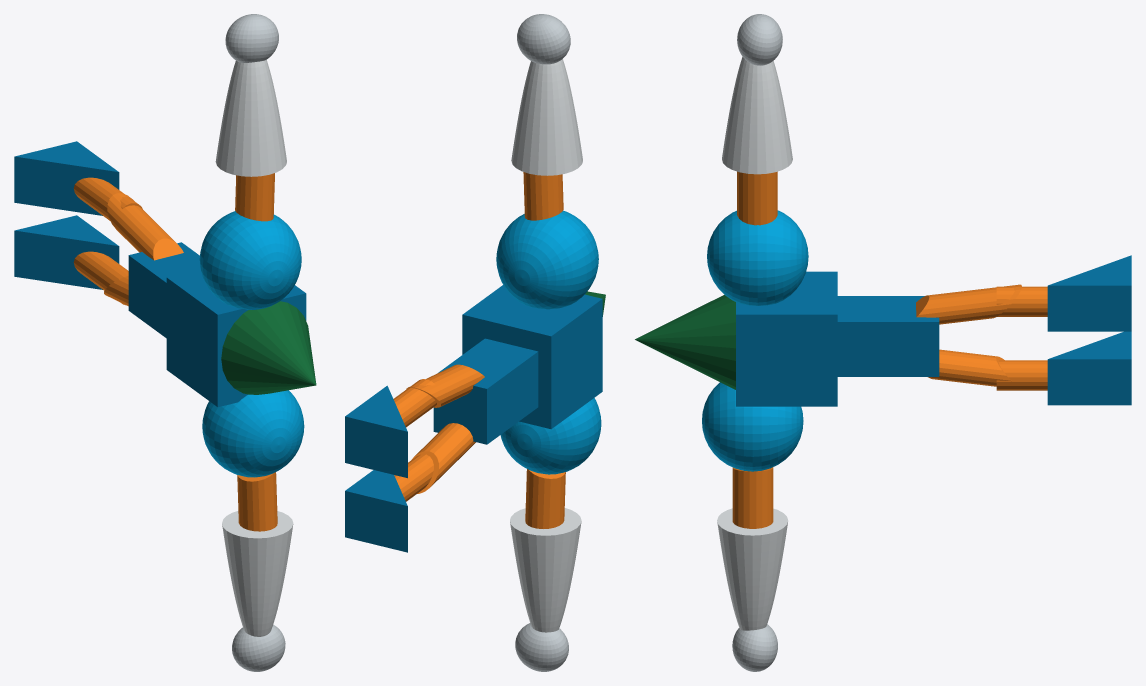
File: tinker.obj
The picture shows the model from 3 angles, left to right: view 1: azimuth 30°, elevation 25°; view 2: azimuth 150°, elevation 25°; view 3: azimuth 270°, elevation 25°; orthographic projection.
Visible parts, largest first — view 1: group_0_30377, group_0_40919, group_0_14541540, group_0_16089887, group_0_1206582, group_0_12568524; view 2: group_0_30377, group_0_40919, group_0_14541540, group_0_16089887, group_0_12568524; view 3: group_0_30377, group_0_40919, group_0_14541540, group_0_16089887, group_0_1206582, group_0_12568524.
Boxes of the visible parts, x1,y1,x2,y2 form: group_0_30377: (14,141,306,407); group_0_40919: (199,211,304,477); group_0_14541540: (215,60,293,636); group_0_16089887: (73,173,277,531); group_0_1206582: (221,301,316,394); group_0_12568524: (225,14,285,671); group_0_30377: (345,285,602,552); group_0_40919: (496,210,601,474); group_0_14541540: (510,59,582,632); group_0_16089887: (393,172,565,528); group_0_12568524: (515,14,570,671); group_0_30377: (736,255,1131,406); group_0_40919: (702,210,808,471); group_0_14541540: (717,57,792,630); group_0_16089887: (732,171,1047,528); group_0_1206582: (635,295,735,389); group_0_12568524: (732,14,782,671).
Bounding box in the file's own units: 21.87 × 141 × 97.8.
